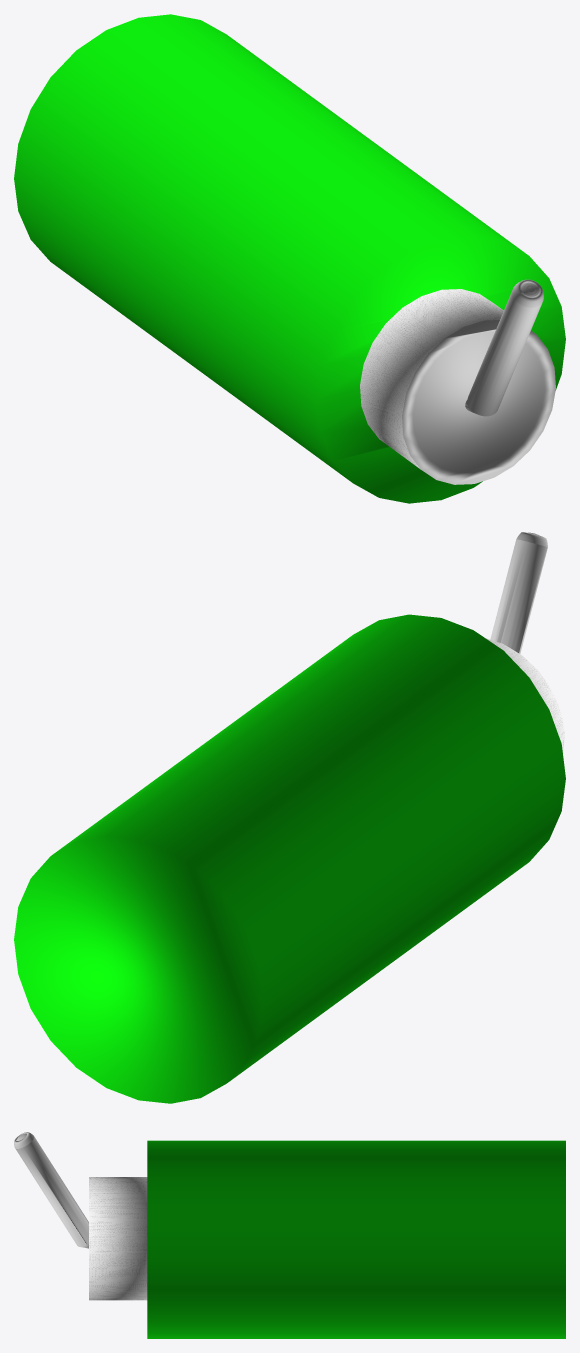
File: model_scale.obj
The picture shows the model from 3 angles, top to bottom: view 1: azimuth 30°, elevation 25°; view 2: azimuth 150°, elevation 25°; view 3: azimuth 270°, elevation 25°; orthographic projection. The views are drawn at different scales.
Visible parts, largest first — view 1: mesh1_mesh1-geometry, mesh2_mesh2-geometry, mesh3_mesh3-geometry; view 2: mesh1_mesh1-geometry, mesh3_mesh3-geometry, mesh2_mesh2-geometry; view 3: mesh1_mesh1-geometry, mesh2_mesh2-geometry, mesh3_mesh3-geometry.
Part boxes in pixels (box(x1,y1,x2,y2)): mesh1_mesh1-geometry: box(14, 14, 565, 503); mesh2_mesh2-geometry: box(360, 289, 555, 484); mesh3_mesh3-geometry: box(465, 279, 543, 416); mesh1_mesh1-geometry: box(14, 614, 565, 1103); mesh3_mesh3-geometry: box(490, 532, 547, 653); mesh2_mesh2-geometry: box(486, 638, 564, 754); mesh1_mesh1-geometry: box(147, 1140, 565, 1338); mesh2_mesh2-geometry: box(89, 1177, 147, 1300); mesh3_mesh3-geometry: box(14, 1132, 88, 1248).
Size of the model in its own units: 0.0501 by 0.0544 by 0.139.
